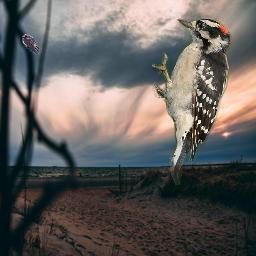Swallow: (22, 34, 42, 55)
Woodpecker: (152, 19, 234, 185)
